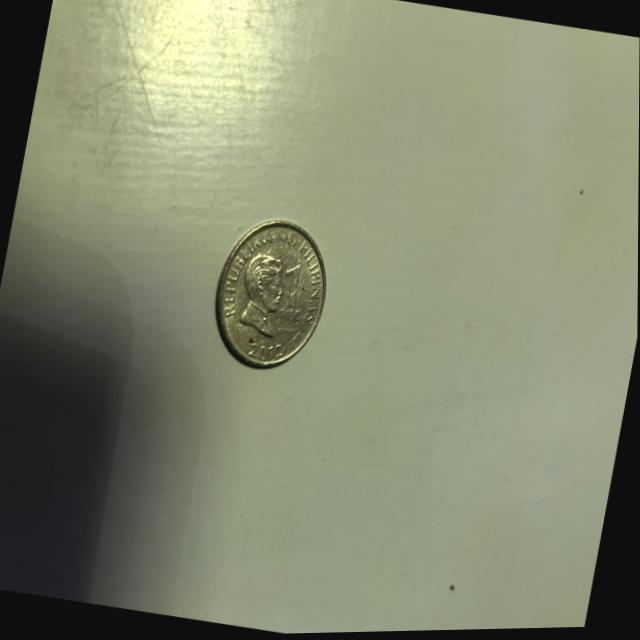1_Old_Front: (271, 255, 314, 326)
